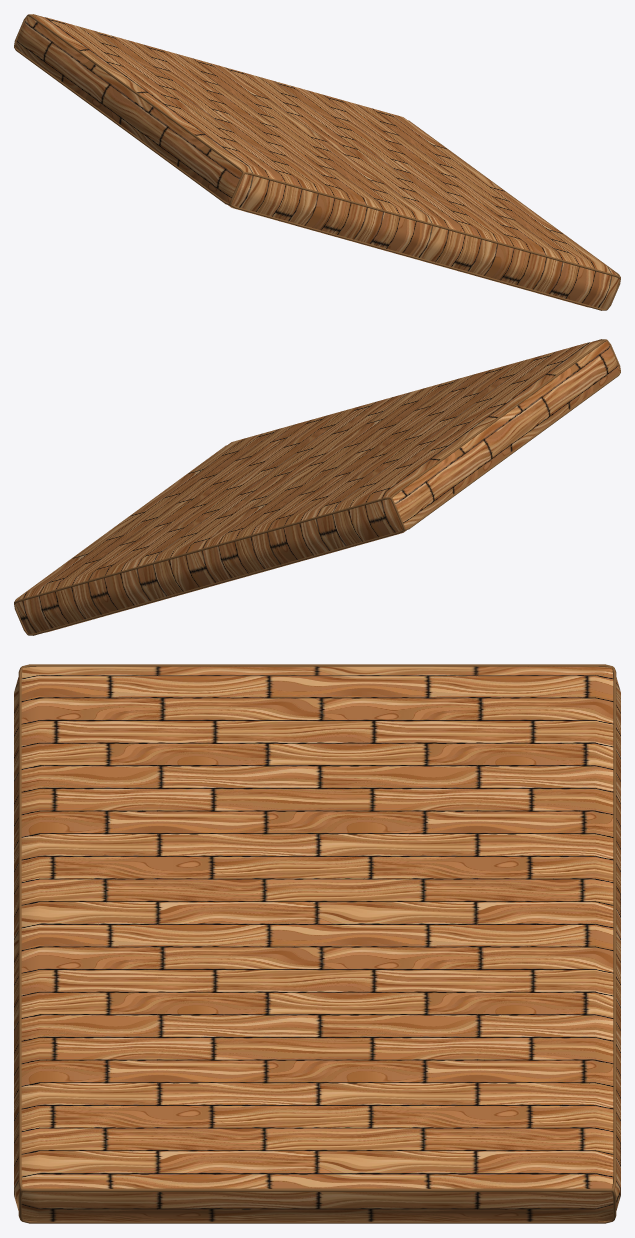
File: SM_FoamRamp_2x2.fbx
The picture shows the model from 3 angles, top to bottom: view 1: azimuth 30°, elevation 25°; view 2: azimuth 150°, elevation 25°; view 3: azimuth 270°, elevation 25°; orthographic projection. The views are drawn at different scales.
Visible parts, largest first — view 1: SM_SoftFoam_Ramp_2x2; view 2: SM_SoftFoam_Ramp_2x2; view 3: SM_SoftFoam_Ramp_2x2.
Part boxes in pixels (<box>): SM_SoftFoam_Ramp_2x2: <box>14,14,620,310</box>; SM_SoftFoam_Ramp_2x2: <box>14,339,620,635</box>; SM_SoftFoam_Ramp_2x2: <box>14,664,620,1223</box>.
Bounding box in the file's own units: 196 × 109 × 190.
